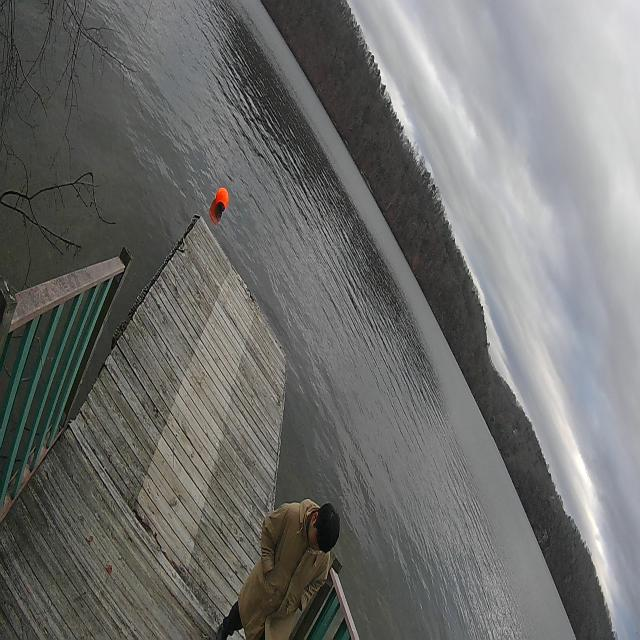Buoy: (215, 182, 230, 219)
